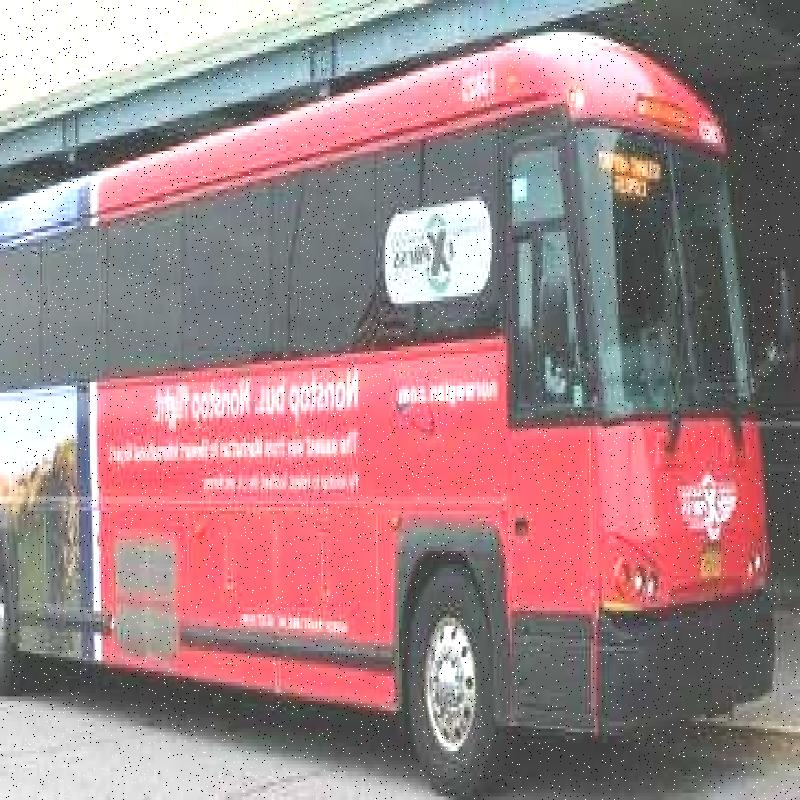bus: (0, 41, 761, 733)
